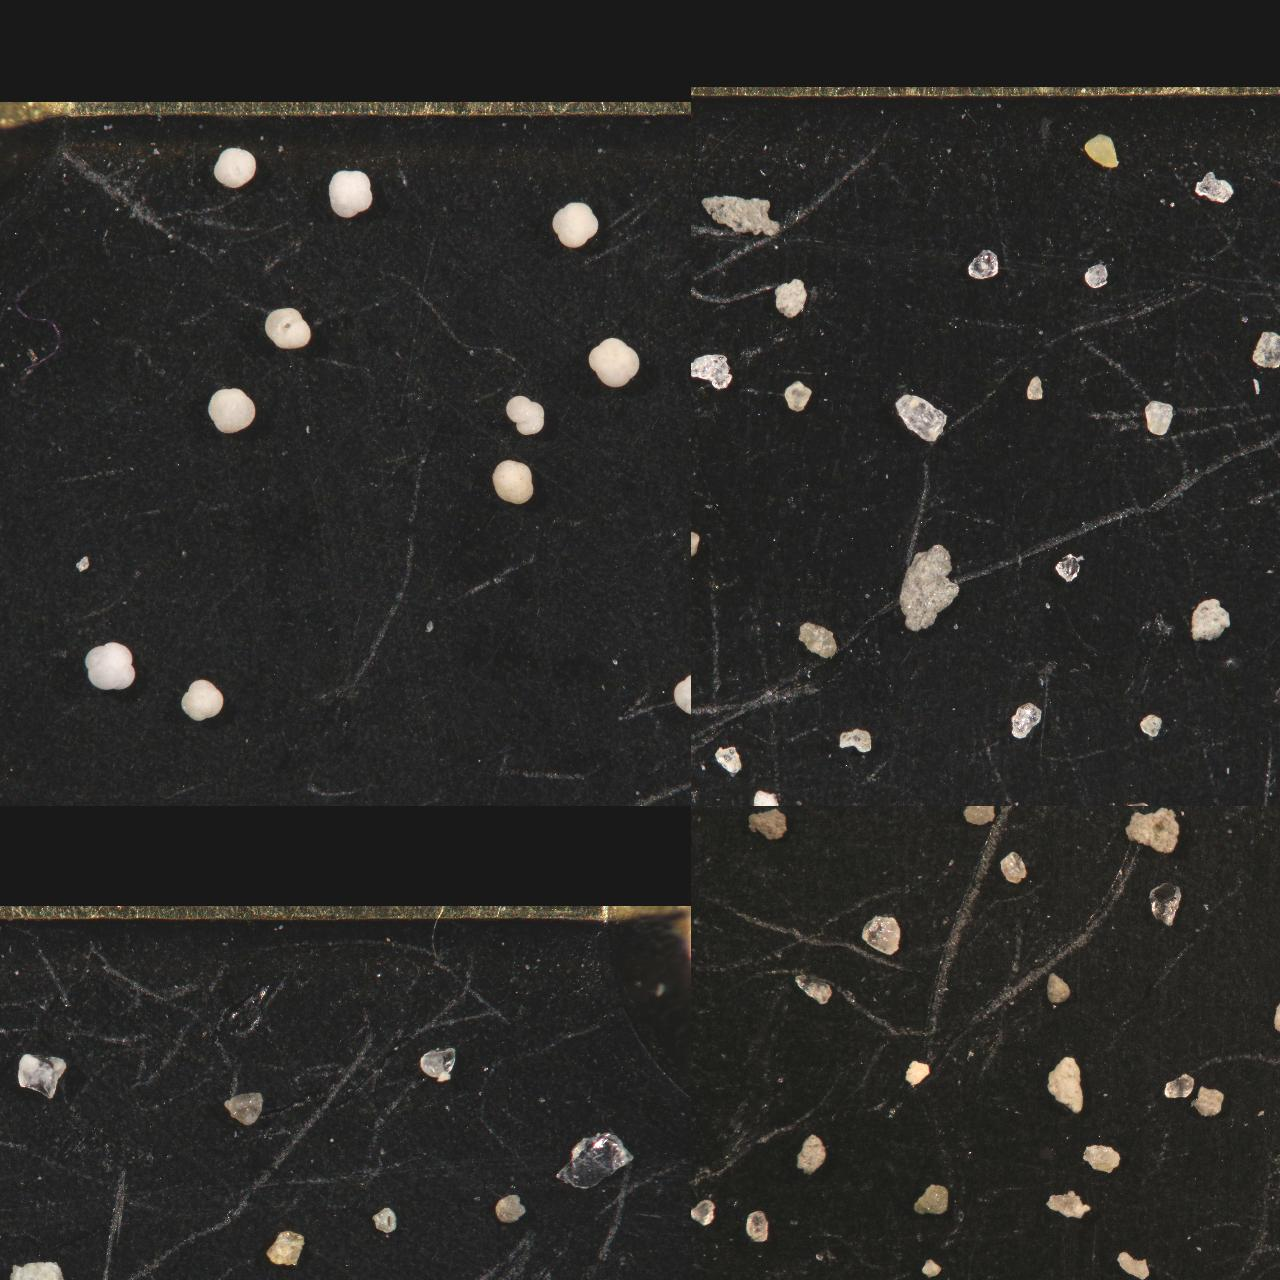Sediment: (899, 542, 961, 629), (553, 1130, 636, 1189), (700, 192, 783, 236), (892, 389, 947, 443), (1123, 806, 1184, 852), (16, 1051, 66, 1098), (1047, 1054, 1085, 1112), (1190, 598, 1232, 640), (1148, 880, 1186, 926), (859, 913, 901, 953), (5, 1259, 80, 1280), (264, 1227, 306, 1265), (797, 621, 838, 659), (223, 1088, 265, 1124), (1044, 1189, 1094, 1219), (692, 350, 731, 388), (0, 1184, 35, 1225), (745, 806, 788, 840), (772, 277, 806, 318), (792, 971, 833, 1005), (1082, 132, 1121, 168), (418, 1046, 458, 1080), (692, 132, 720, 181), (794, 1132, 826, 1173), (1194, 170, 1234, 202), (692, 734, 715, 787), (913, 1182, 951, 1214), (1010, 702, 1043, 738), (1081, 1144, 1123, 1172), (967, 245, 1001, 279), (1144, 399, 1175, 436), (1250, 329, 1280, 367), (1114, 1251, 1152, 1280), (1191, 1084, 1226, 1116), (493, 1192, 527, 1223), (1160, 1069, 1194, 1098), (743, 1207, 769, 1245), (782, 380, 813, 410), (998, 851, 1028, 883), (1054, 552, 1084, 583), (838, 726, 872, 753), (1046, 968, 1071, 1003), (713, 745, 743, 775), (1158, 806, 1199, 828), (692, 642, 712, 685), (370, 1204, 400, 1232), (692, 484, 712, 525), (692, 428, 715, 462), (901, 1058, 930, 1085), (692, 529, 712, 566), (692, 544, 710, 581), (692, 1199, 719, 1225), (1083, 261, 1109, 287), (962, 806, 999, 824), (1139, 712, 1165, 736), (751, 787, 783, 806), (1024, 373, 1046, 400), (1248, 806, 1280, 823), (692, 253, 706, 290), (692, 481, 708, 511), (692, 240, 707, 273), (0, 1137, 14, 1171), (1269, 993, 1280, 1035), (692, 701, 710, 724), (919, 1259, 942, 1278), (692, 353, 708, 379), (692, 561, 707, 588), (692, 669, 704, 701), (862, 806, 887, 821), (692, 470, 704, 493), (692, 196, 702, 213)
planktic: (586, 334, 642, 388), (82, 639, 137, 692), (206, 386, 258, 433), (327, 169, 374, 218), (491, 456, 537, 504), (551, 200, 599, 246), (178, 676, 225, 722), (211, 145, 259, 189), (264, 306, 313, 348), (504, 393, 546, 435), (670, 670, 692, 716)
